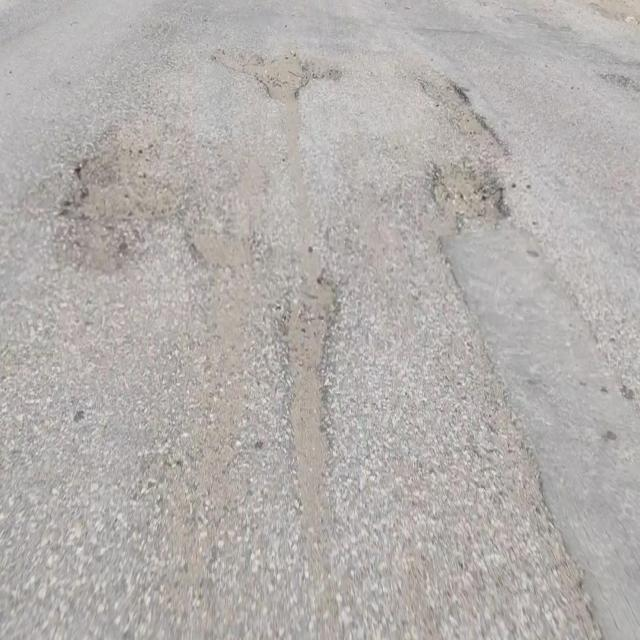Potholes: (277, 261, 341, 521), (62, 127, 188, 235), (427, 155, 514, 234), (252, 44, 313, 105), (422, 76, 473, 107), (212, 50, 260, 77)
